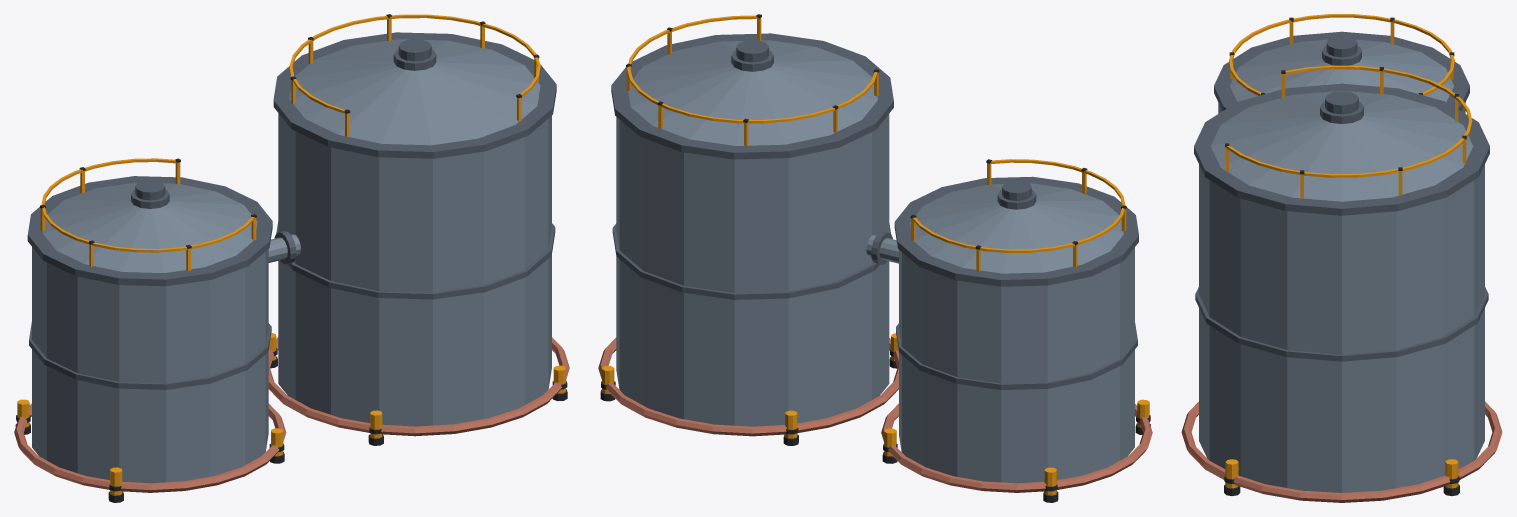
Rendered from clark q1 storage tanks.fbx.
3 renders of one model, left to right at view 1: azimuth 30°, elevation 25°; view 2: azimuth 150°, elevation 25°; view 3: azimuth 270°, elevation 25°, orthographic. The views are drawn at different scales.
Visible parts, largest first — view 1: Tank_2_Conical_Roof; view 2: Tank_2_Conical_Roof; view 3: Tank_2_Conical_Roof.
Part boxes in pixels (<box>): Tank_2_Conical_Roof: <box>14,14,569,502</box>; Tank_2_Conical_Roof: <box>598,14,1152,502</box>; Tank_2_Conical_Roof: <box>1181,14,1502,502</box>.
Size of the model in its own units: 800 by 496 by 415.
